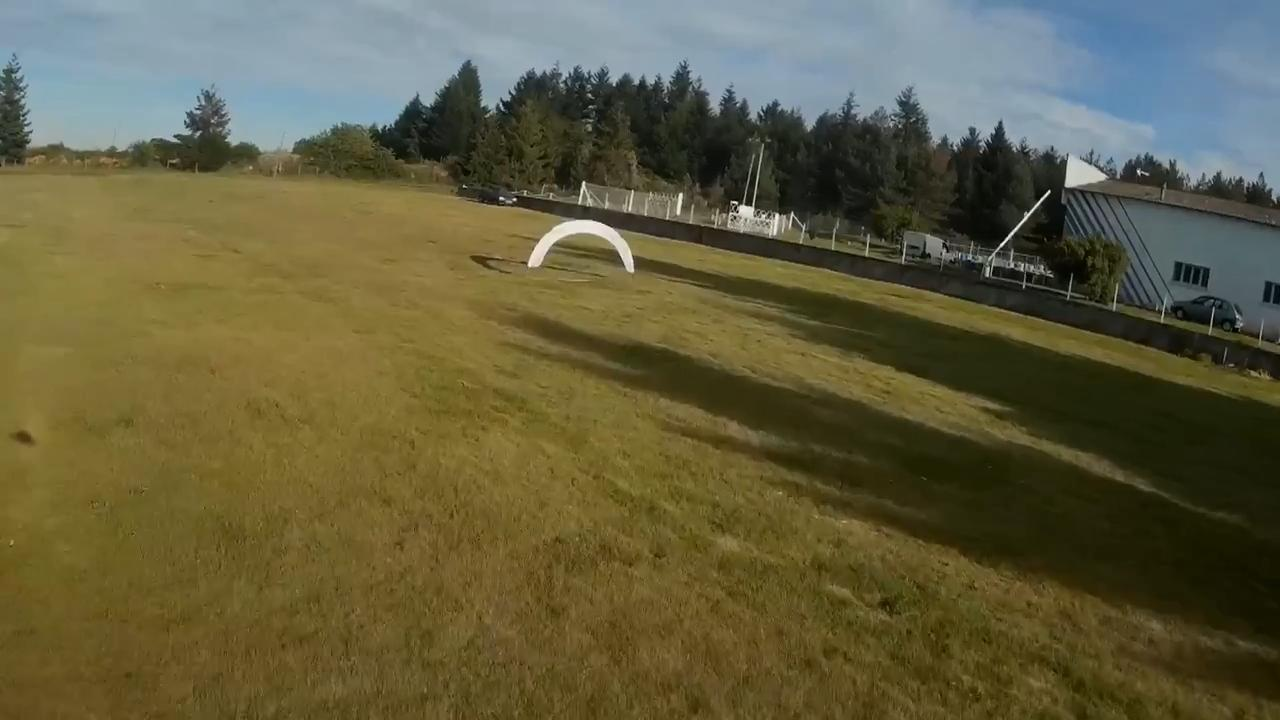gate: (526, 218, 635, 274)
